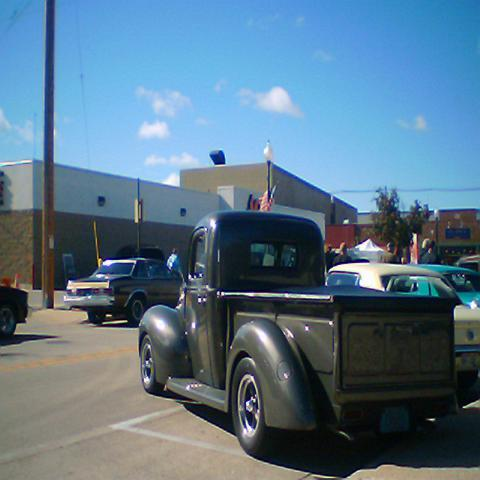car: (336, 259, 479, 380), (63, 258, 180, 326), (402, 263, 479, 309), (2, 284, 22, 338), (116, 245, 164, 261)
truck: (138, 210, 457, 457)
